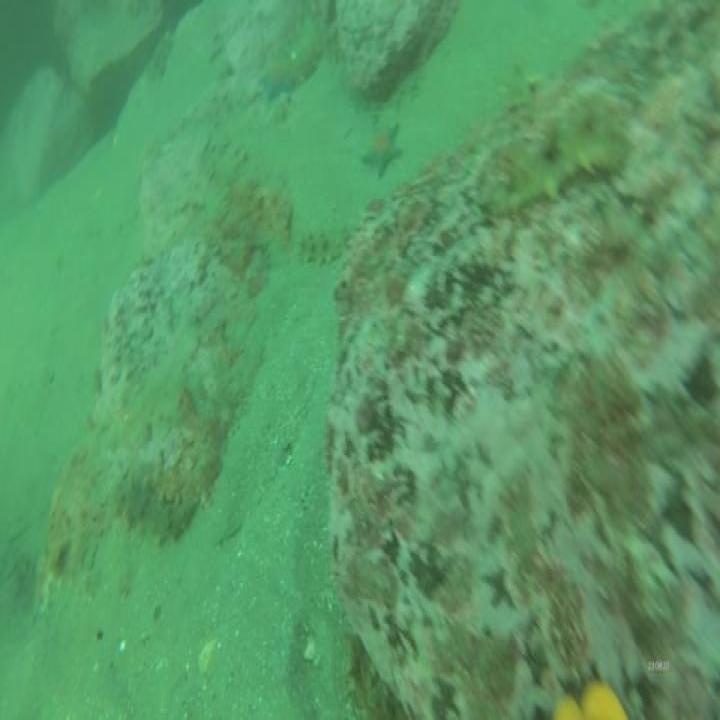holothurian: (482, 121, 632, 219), (291, 222, 352, 270)
starfish: (359, 118, 404, 182), (256, 55, 297, 103)
